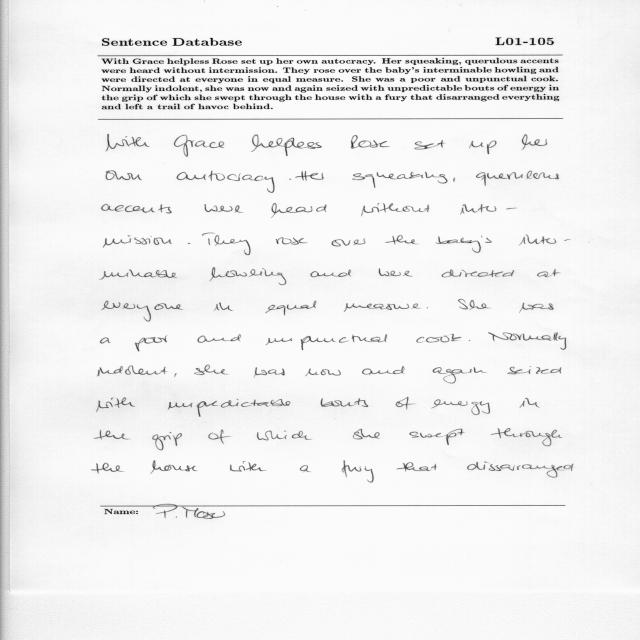word: (168, 399, 290, 417), (177, 171, 275, 193), (266, 334, 387, 350), (467, 461, 573, 478), (102, 301, 183, 322), (352, 172, 448, 188), (251, 135, 322, 156), (489, 332, 567, 350), (210, 268, 287, 285), (491, 429, 563, 447), (476, 171, 559, 186), (174, 135, 224, 157), (202, 233, 251, 255), (436, 235, 492, 253), (431, 399, 490, 415), (103, 235, 172, 248), (361, 203, 429, 216), (410, 429, 465, 445), (433, 367, 487, 383), (100, 269, 177, 280), (271, 203, 327, 218), (98, 366, 168, 377), (107, 134, 150, 151), (266, 301, 317, 315), (342, 461, 374, 483), (344, 303, 421, 312), (150, 460, 198, 474), (102, 204, 172, 213), (460, 204, 517, 215), (96, 397, 135, 412), (442, 270, 515, 278), (519, 235, 570, 246), (257, 431, 312, 441), (152, 432, 182, 450), (351, 135, 389, 149), (135, 335, 168, 351), (508, 366, 562, 374), (321, 398, 369, 407), (522, 135, 548, 151), (417, 334, 462, 343), (197, 334, 241, 343), (230, 461, 266, 472), (362, 366, 405, 375), (519, 302, 554, 313), (469, 141, 497, 154), (91, 463, 124, 474), (94, 430, 130, 440), (397, 463, 437, 472), (458, 299, 490, 310), (205, 204, 244, 213), (208, 429, 231, 444), (254, 367, 285, 378), (194, 365, 228, 375), (310, 270, 351, 278), (106, 171, 142, 180), (332, 238, 366, 247), (385, 235, 418, 244), (353, 429, 380, 440), (305, 369, 341, 377), (296, 171, 324, 181), (415, 140, 446, 149), (379, 269, 413, 277), (396, 397, 416, 410), (276, 237, 308, 245), (520, 398, 540, 408), (537, 269, 561, 277), (214, 302, 233, 311), (100, 337, 111, 344), (300, 465, 311, 472), (453, 178, 455, 182), (175, 373, 177, 377), (289, 178, 291, 180), (188, 243, 191, 244), (427, 308, 428, 309), (469, 340, 470, 341)
